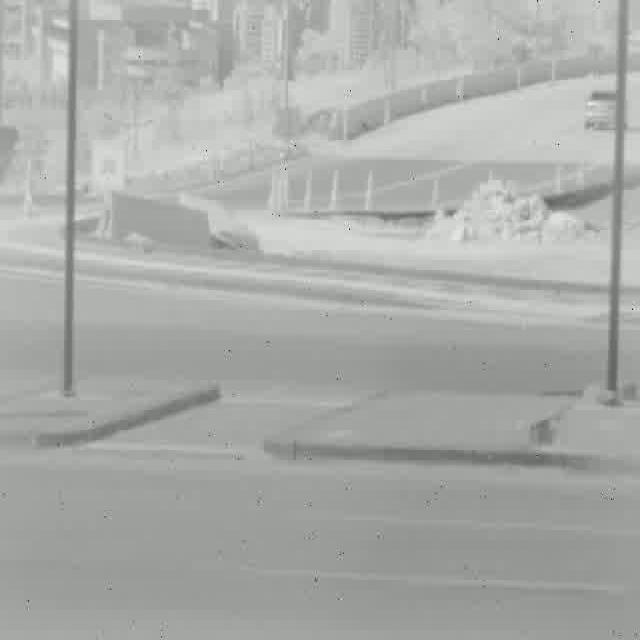Car: (584, 91, 621, 128)
